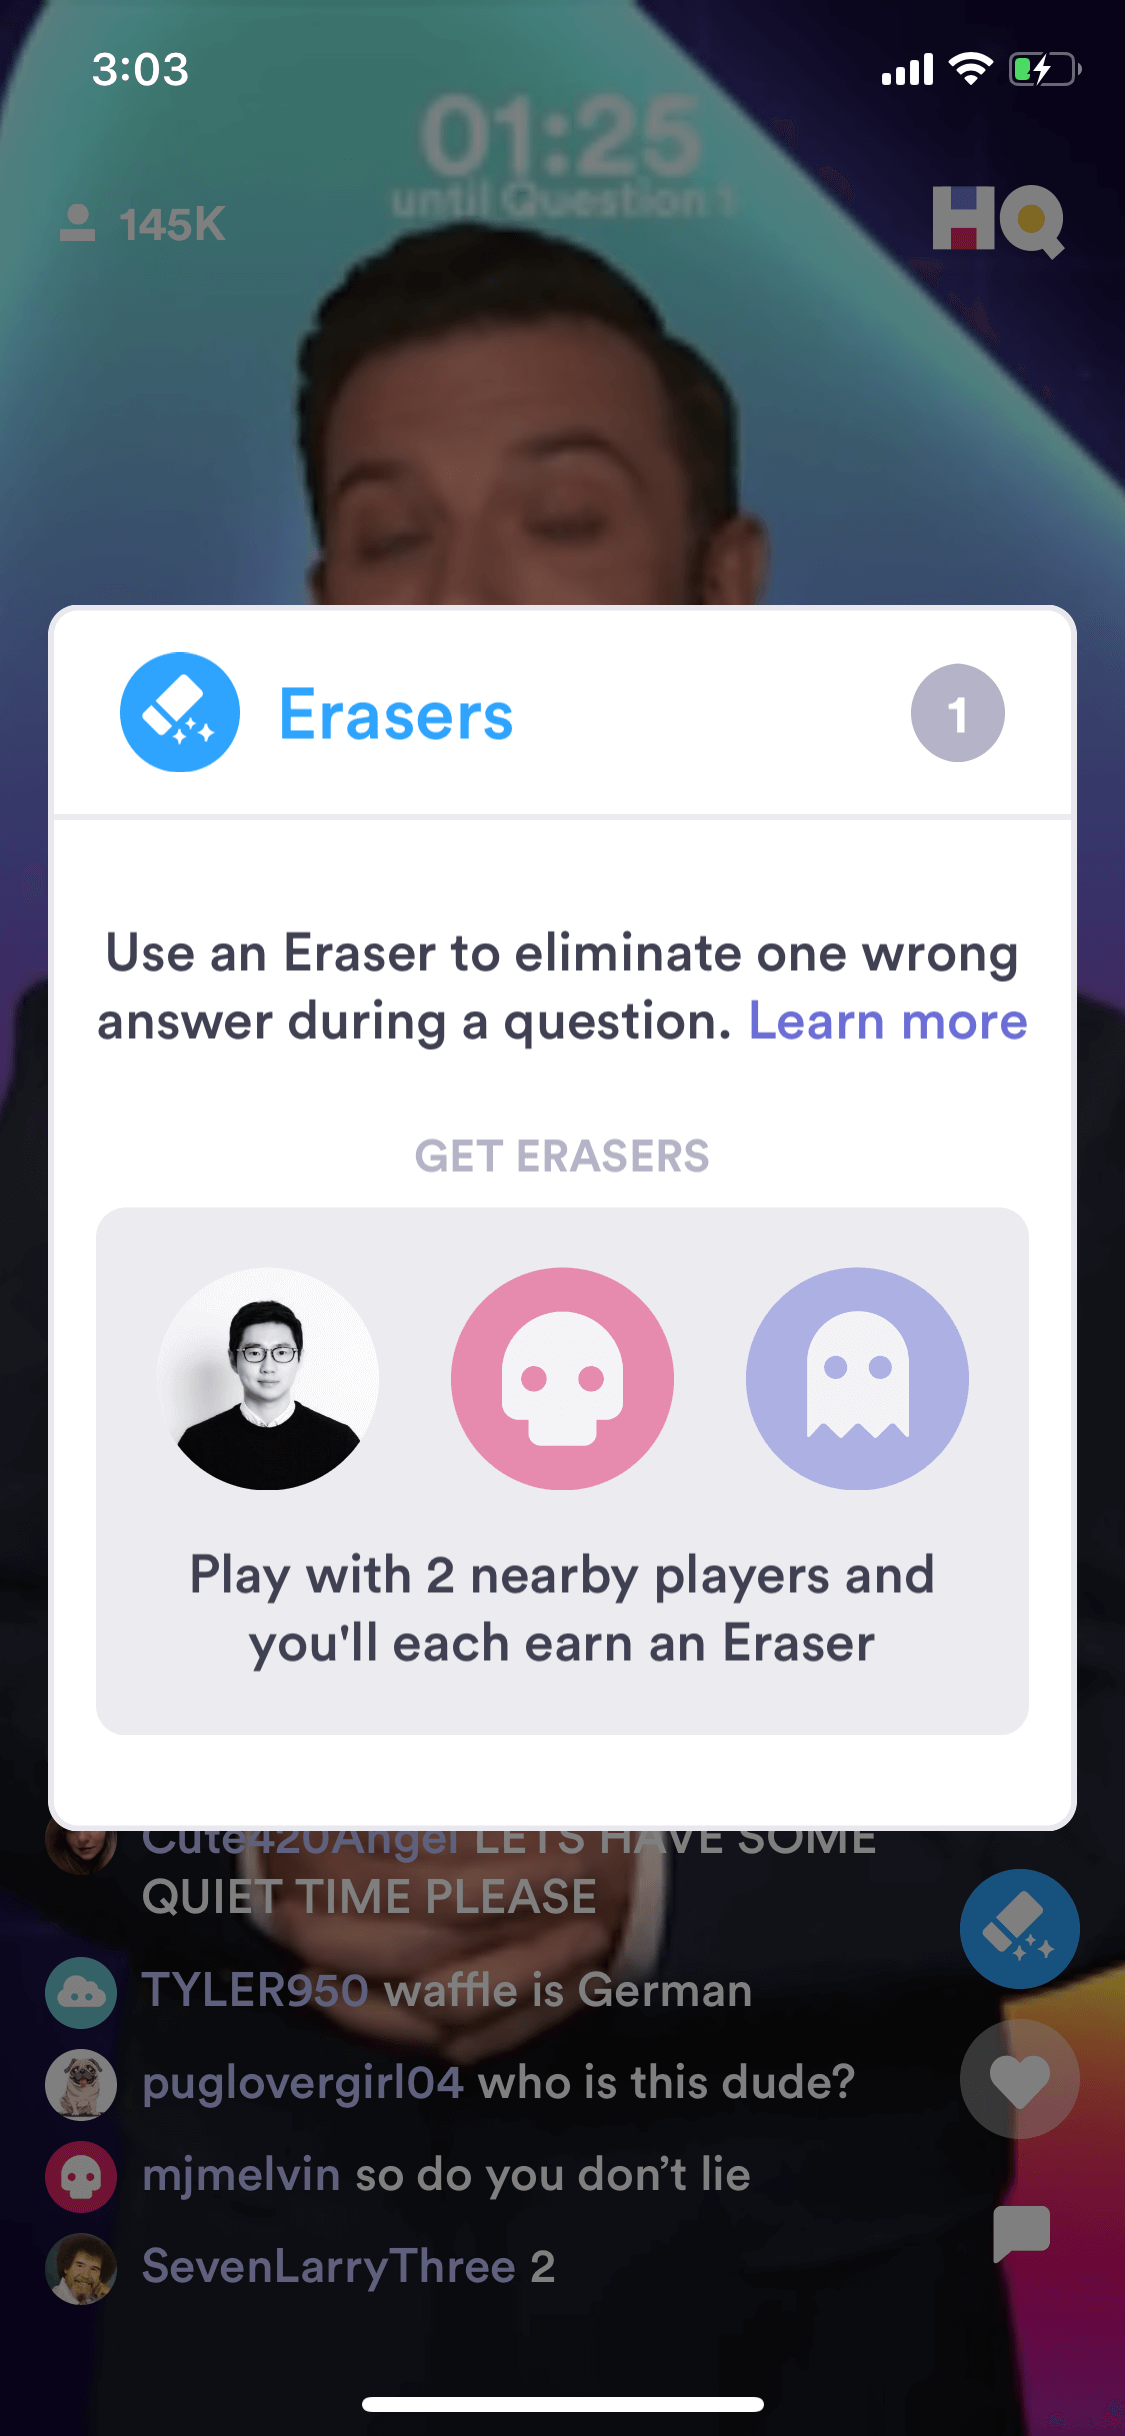FAB (Floating Action Button): (949, 2006, 1092, 2149), (953, 1852, 1095, 1993), (953, 2173, 1091, 2292)
